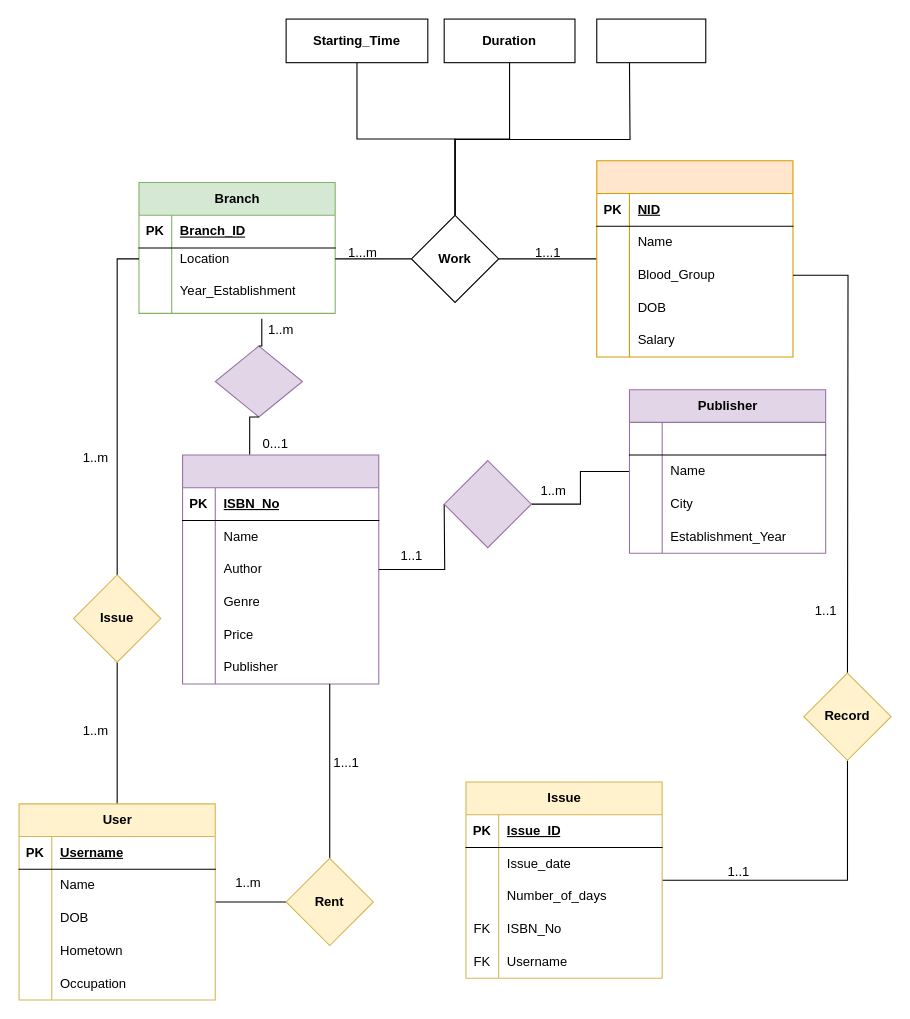
This 910x1019 diagram has some shape labels left out. The shapes that lost their labels are listed below. From the top down, each one's box as (x1, y1, x2, y2) in pixels, then its label:
(596, 18, 706, 63): Days_of_Weeks
(596, 160, 793, 357): Employee
(214, 345, 302, 417): Has
(443, 459, 531, 548): Publish
(181, 454, 379, 684): Book
